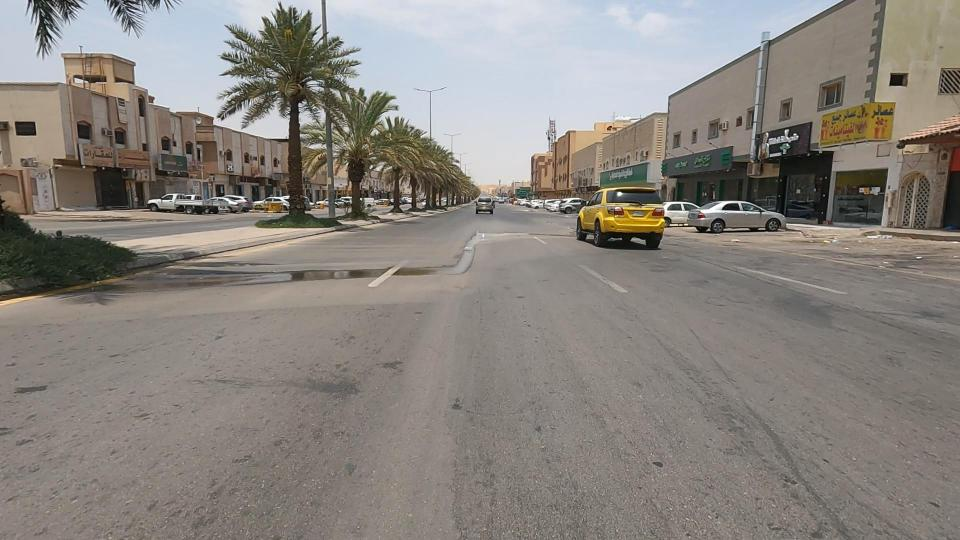BAD_BILLBOARD: (52, 126, 132, 179), (103, 133, 163, 182)
